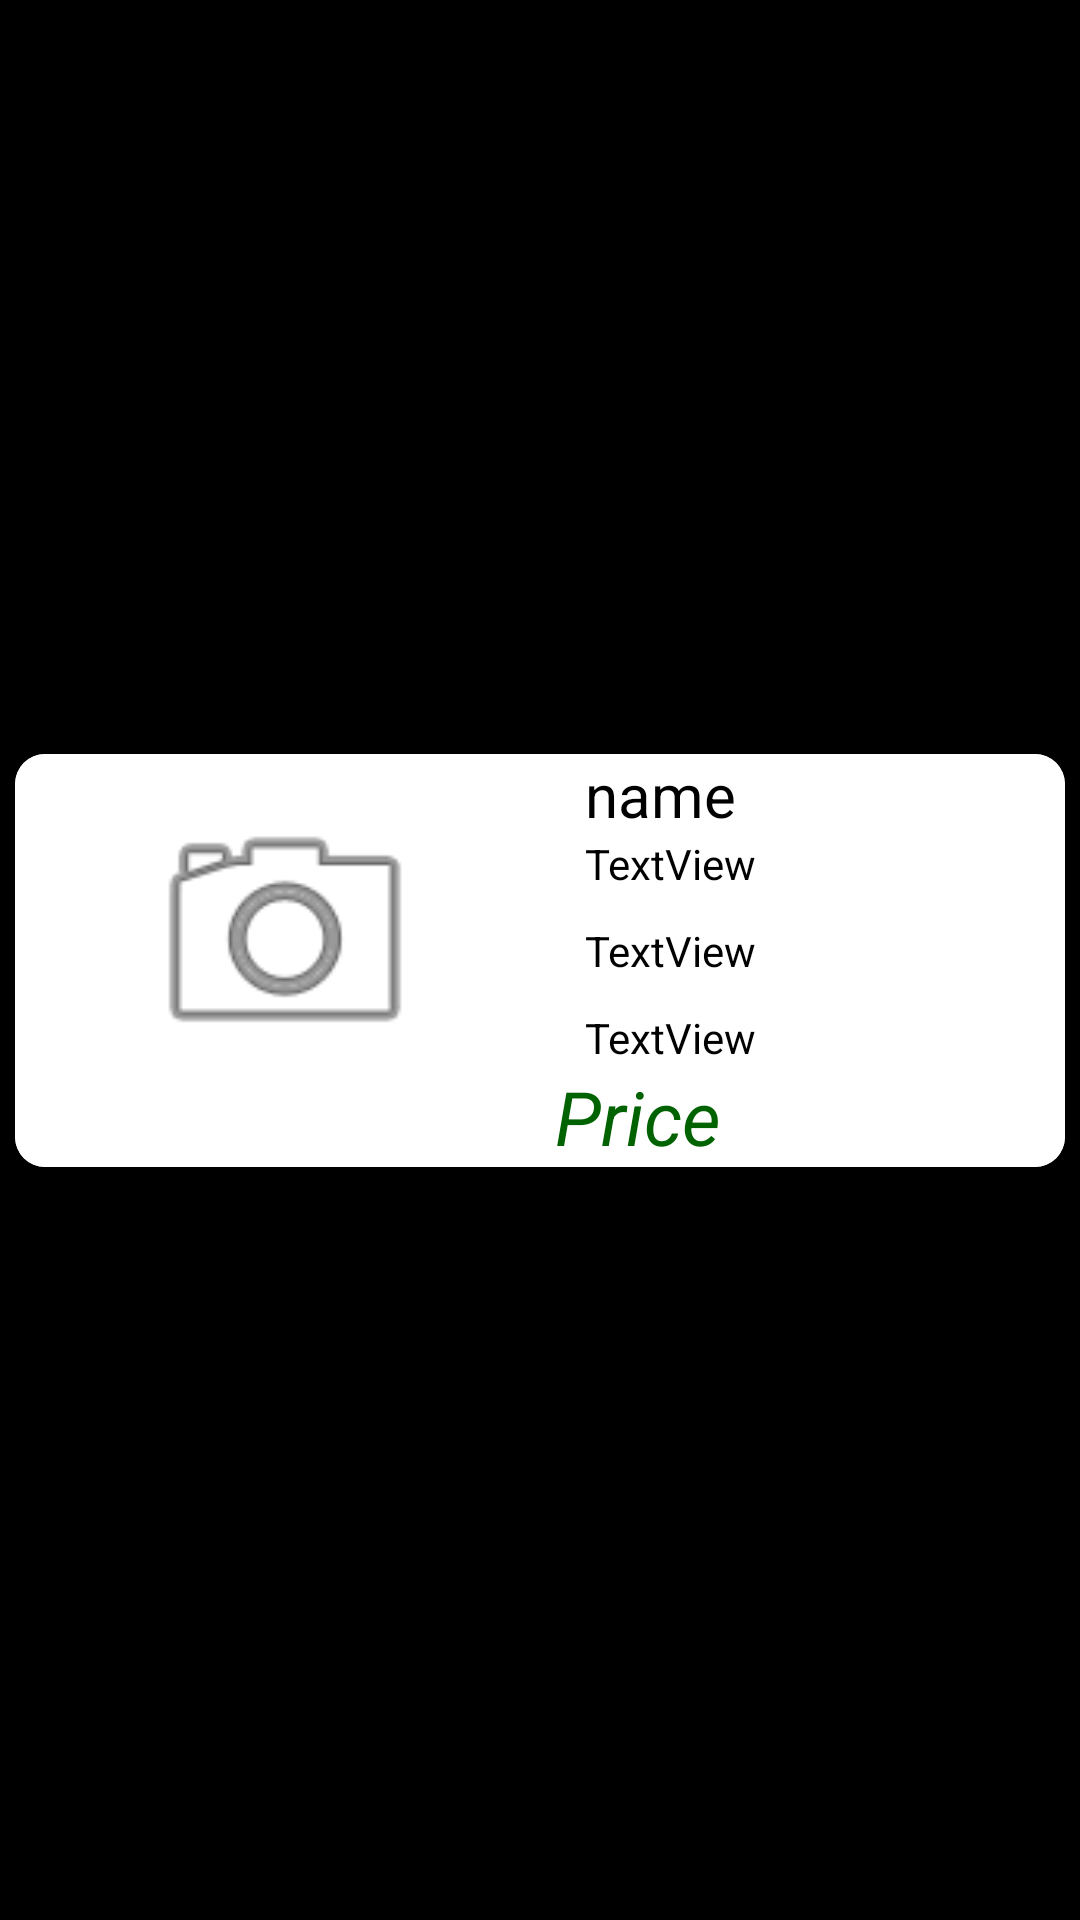

Icon bounding boxes for this 1080w x 1920h phone screenshot, format (x1, y1, x2, y2):
camera: (169, 837, 401, 1022)
